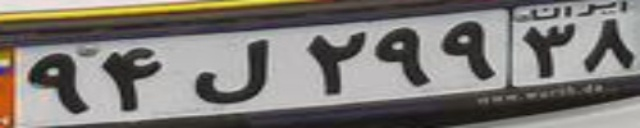2: (305, 30, 365, 95)
3: (519, 22, 575, 79)
4: (101, 46, 167, 112)
8: (583, 17, 635, 73)
9: (24, 51, 90, 114), (436, 19, 496, 80), (372, 25, 430, 86)
lam: (193, 37, 266, 105)
